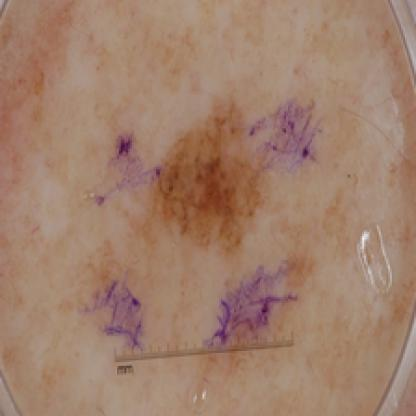malignant: (163, 125, 236, 232)
